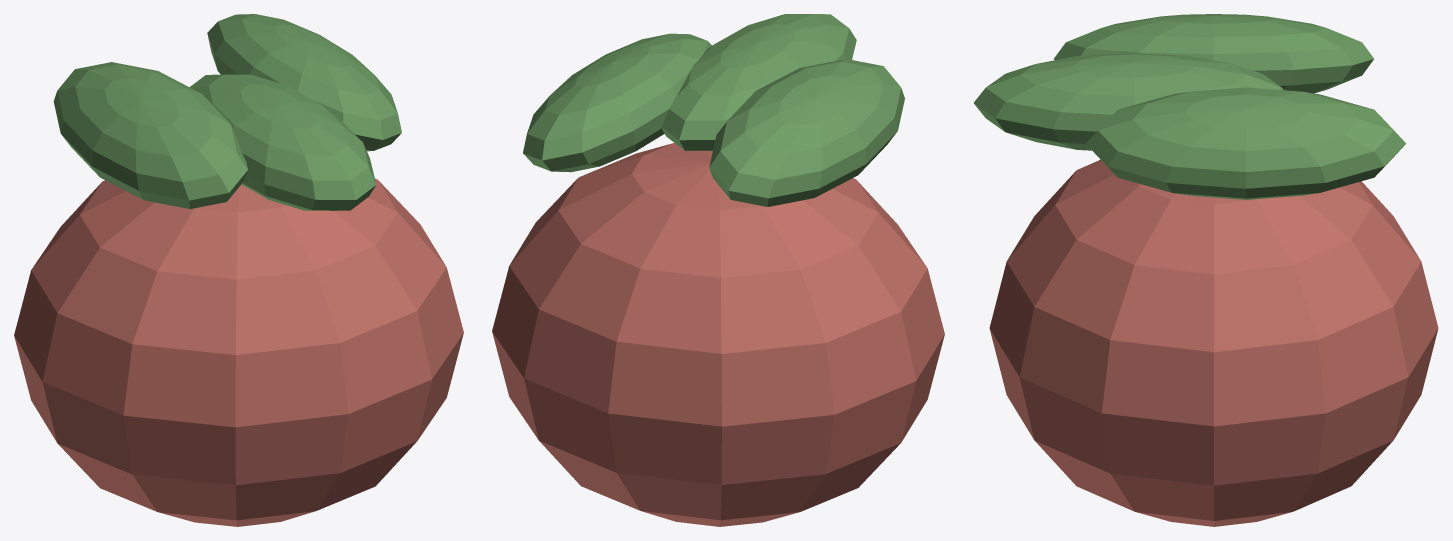
The model's file is crop.glb.
3 views of the same model, side by side, from view 1: azimuth 30°, elevation 25°; view 2: azimuth 150°, elevation 25°; view 3: azimuth 270°, elevation 25° (orthographic). The views are drawn at different scales.
Visible parts, largest first — view 1: Icon_Sphere.001, Icon_Sphere.002, Icon_Sphere, Icon_Sphere.003; view 2: Icon_Sphere.001, Icon_Sphere.002, Icon_Sphere.003, Icon_Sphere; view 3: Icon_Sphere.001, Icon_Sphere.003, Icon_Sphere, Icon_Sphere.002.
Part boxes in pixels (bbox=[...]): Icon_Sphere.001: bbox=[14, 178, 463, 526]; Icon_Sphere.002: bbox=[53, 62, 247, 208]; Icon_Sphere: bbox=[190, 74, 376, 210]; Icon_Sphere.003: bbox=[207, 14, 401, 151]; Icon_Sphere.001: bbox=[492, 143, 944, 526]; Icon_Sphere.002: bbox=[709, 59, 904, 206]; Icon_Sphere.003: bbox=[523, 33, 711, 172]; Icon_Sphere: bbox=[662, 14, 856, 150]; Icon_Sphere.001: bbox=[989, 160, 1438, 526]; Icon_Sphere.003: bbox=[1086, 87, 1406, 199]; Icon_Sphere: bbox=[974, 53, 1283, 150]; Icon_Sphere.002: bbox=[1054, 14, 1373, 93].
Size of the model in its own units: 0.58 by 0.608 by 0.58.
